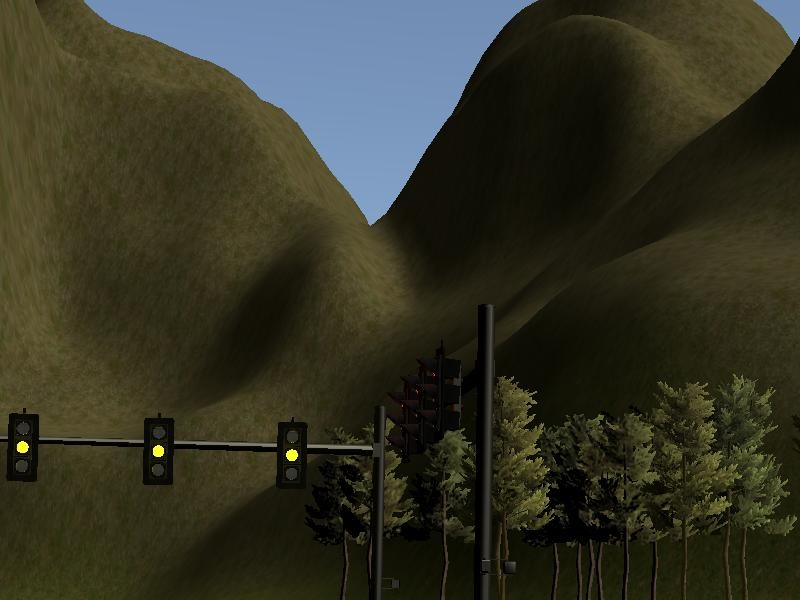YELLOW: (5, 411, 38, 481), (275, 419, 308, 489), (144, 415, 176, 485)
